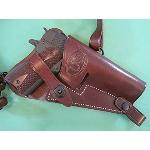Pistol: (2, 25, 146, 115)
